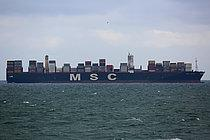Ship: (5, 52, 207, 87)
